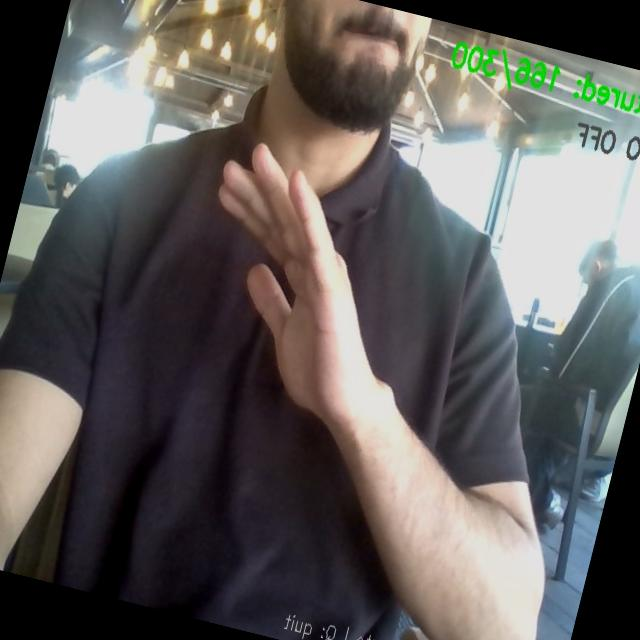Hand: (219, 144, 379, 427)
